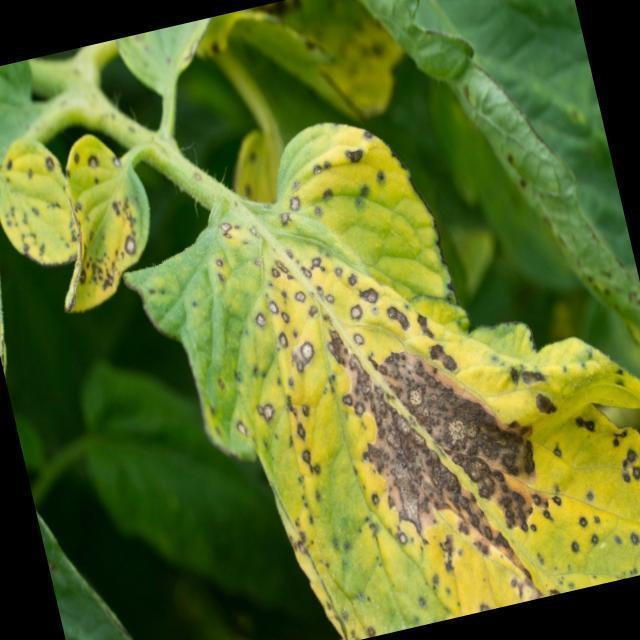Septoria: (208, 144, 640, 640), (48, 144, 168, 306), (0, 133, 80, 271)
